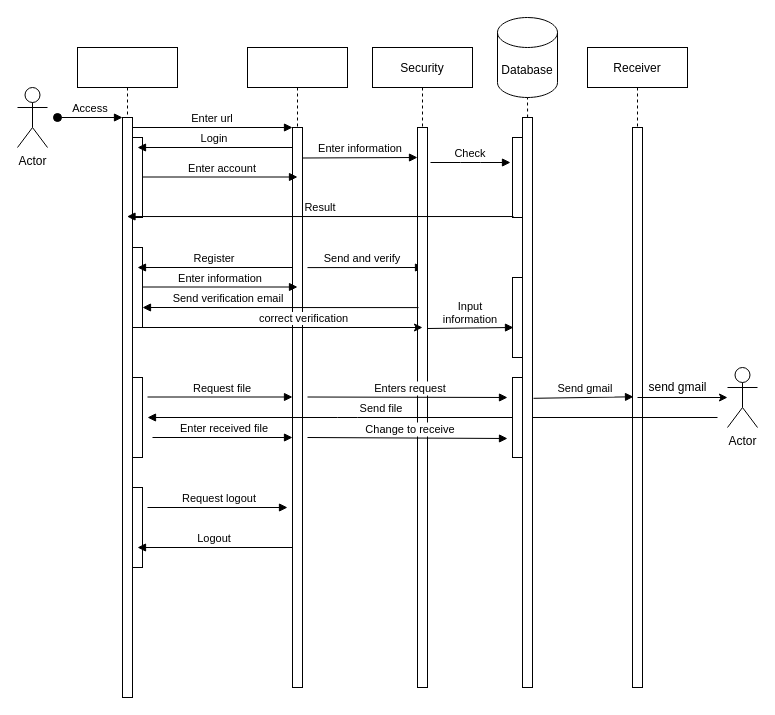
Image size: 775x715. Some labels were removed from this diagram. The box of each missing label's shape, as (x1, y1, x2, y2) in pixels:
Controller: (246, 46, 348, 688)
Interface: (76, 46, 178, 698)
